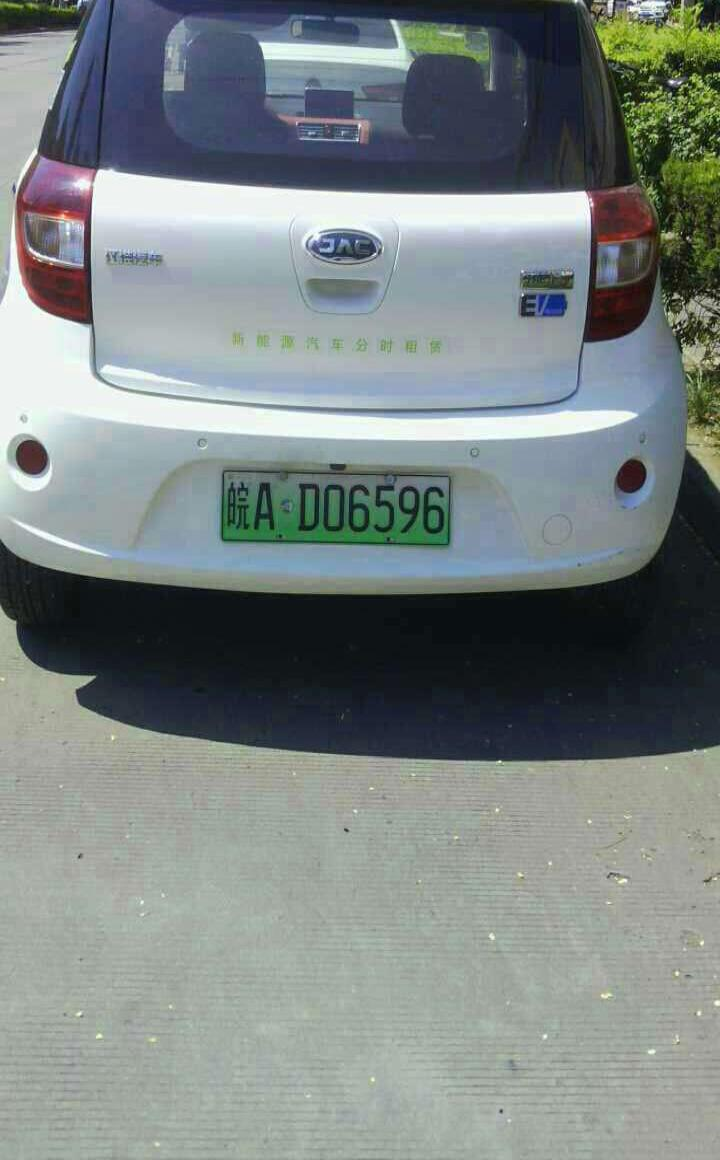car_id: (222, 469, 454, 554)
